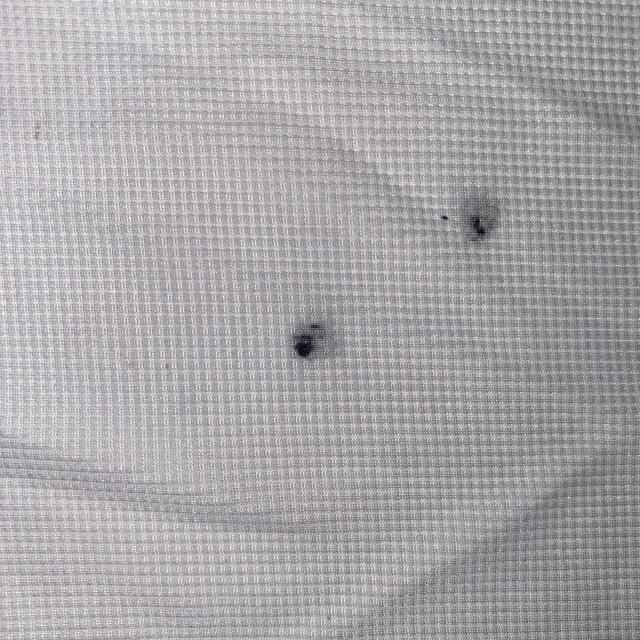Stain: (452, 182, 508, 250), (288, 316, 337, 366)
